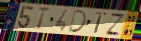4: (53, 9, 69, 32)
5: (16, 5, 35, 30)
D: (67, 9, 88, 34)
T: (36, 6, 52, 31), (93, 11, 108, 35)
Z: (104, 12, 127, 37)
